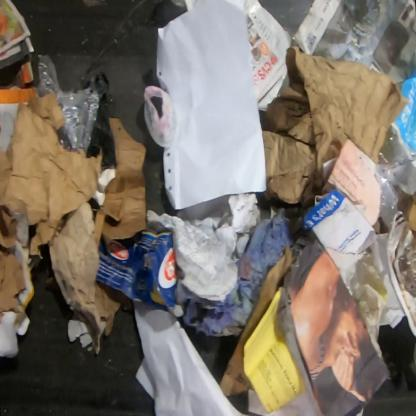cardboard: (219, 245, 294, 397), (92, 116, 147, 249), (95, 230, 178, 309), (0, 205, 27, 315), (402, 157, 416, 280)
rigid_plastic: (374, 169, 399, 228)
soft_plastic: (34, 55, 100, 150), (80, 71, 116, 170), (143, 84, 178, 149)
